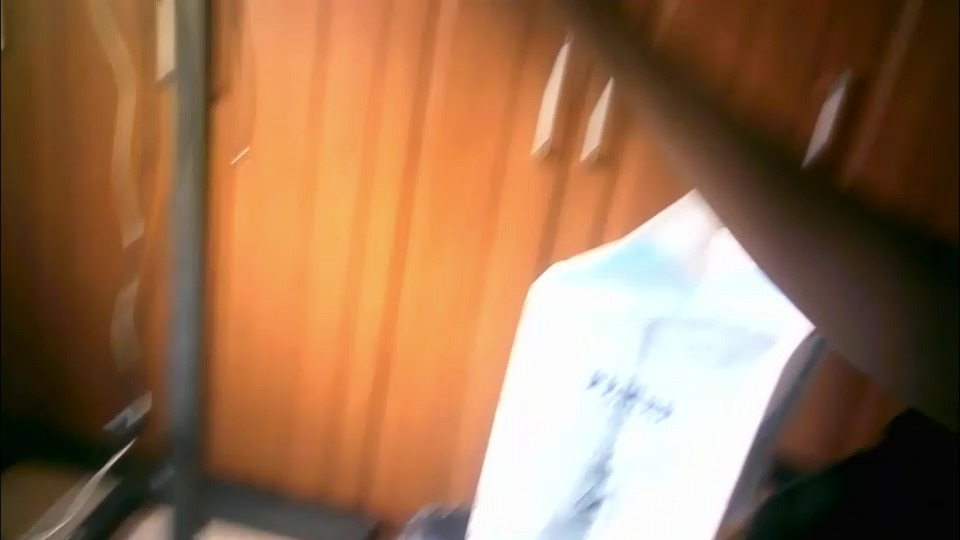wheat_flour_blue_label: (466, 194, 818, 540)
